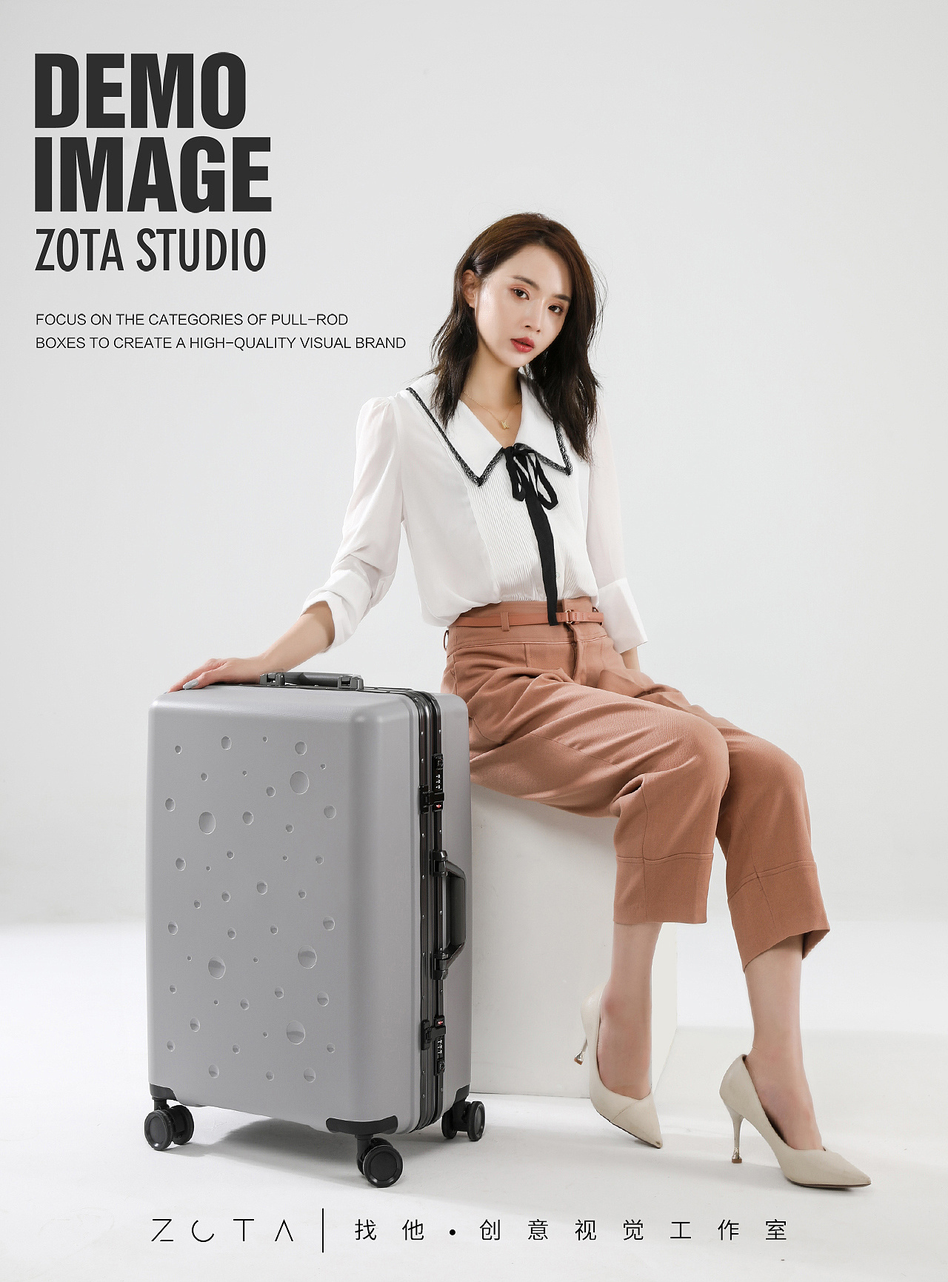box: (145, 685, 470, 1138)
handle: (432, 850, 467, 979), (259, 671, 364, 691)
lock: (419, 754, 444, 812), (427, 1013, 445, 1075)
wheel: (144, 1104, 195, 1152), (357, 1137, 404, 1187), (441, 1101, 485, 1143)
